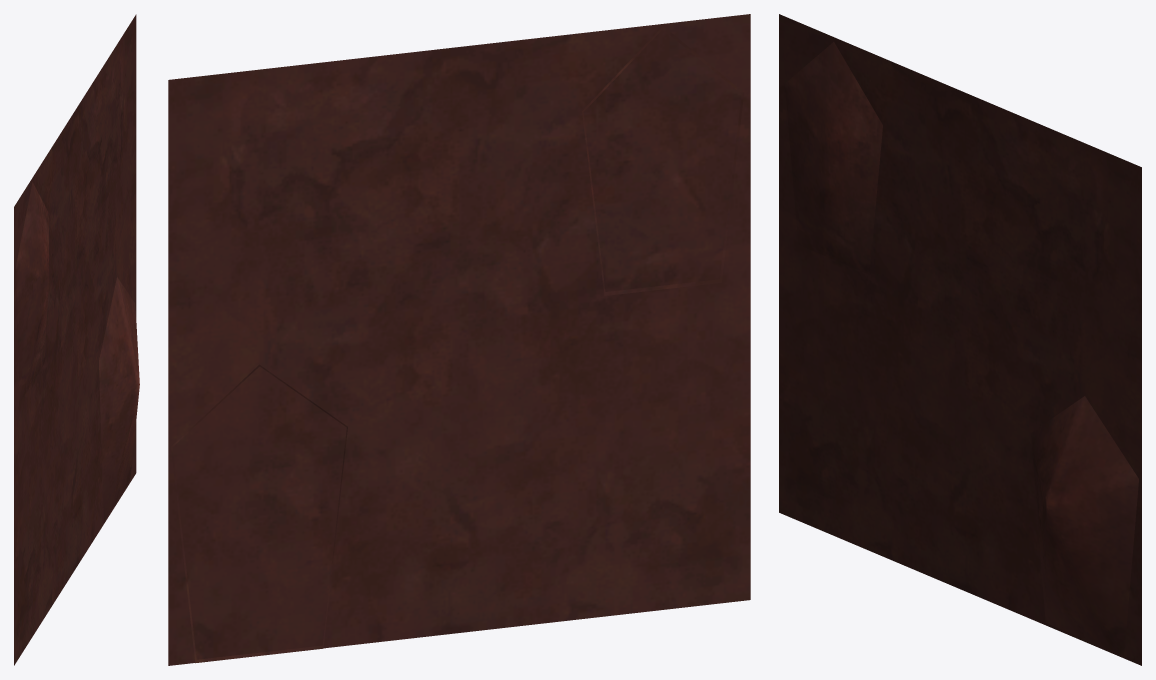
File: lava_wall_diagonal_02.fbx
3 renders of one model, left to right at view 1: azimuth 30°, elevation 25°; view 2: azimuth 150°, elevation 25°; view 3: azimuth 270°, elevation 25°, orthographic. The views are drawn at different scales.
Parts seen in each view (by area): view 1: lava_wall_diagonal_02-0; view 2: lava_wall_diagonal_02-0; view 3: lava_wall_diagonal_02-0.
Boxes of the visible parts, <box> form: lava_wall_diagonal_02-0: <box>14,14,139,665</box>; lava_wall_diagonal_02-0: <box>168,14,750,665</box>; lava_wall_diagonal_02-0: <box>779,14,1141,665</box>.
Size of the model in its own units: 3.62 by 5.5 by 3.62.
